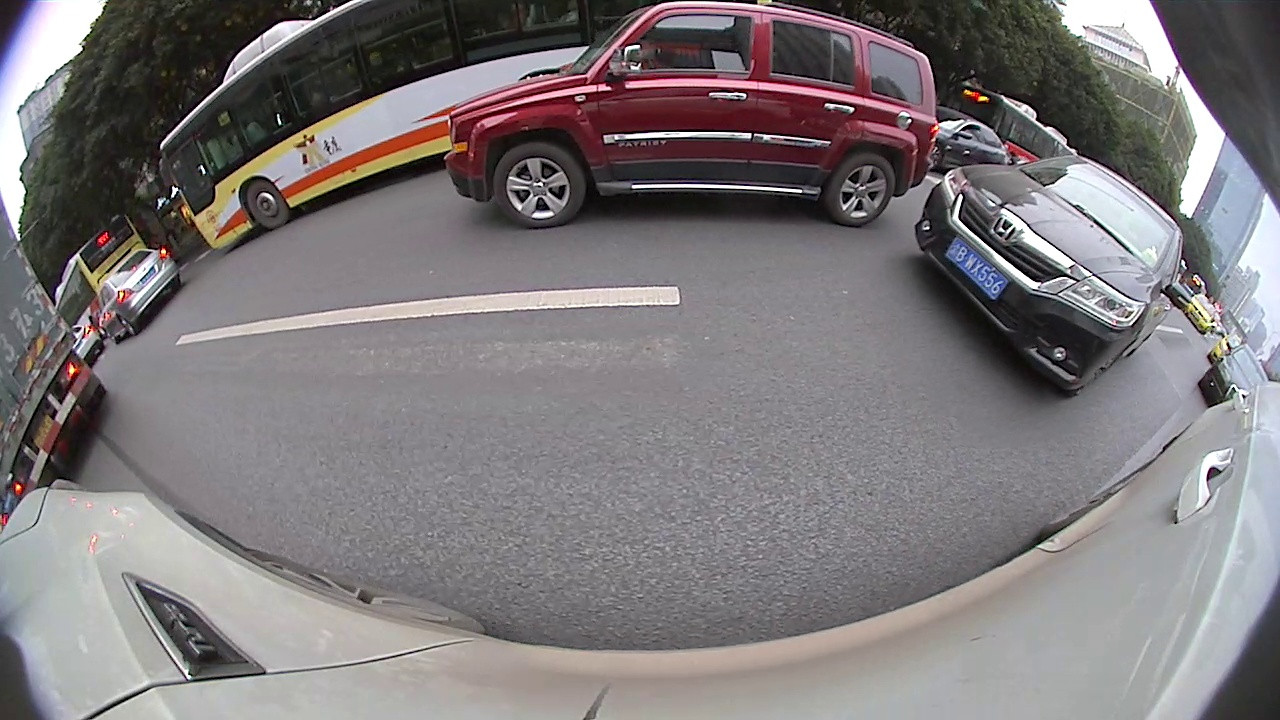bus: (159, 3, 649, 256), (56, 209, 171, 334), (947, 82, 1079, 164)
car: (441, 0, 940, 229), (916, 156, 1182, 400), (94, 249, 183, 342), (1198, 348, 1269, 410)
front: (492, 141, 586, 227), (246, 179, 290, 230)
rear: (823, 152, 896, 224), (118, 314, 141, 335)
truck: (1, 197, 106, 496)
